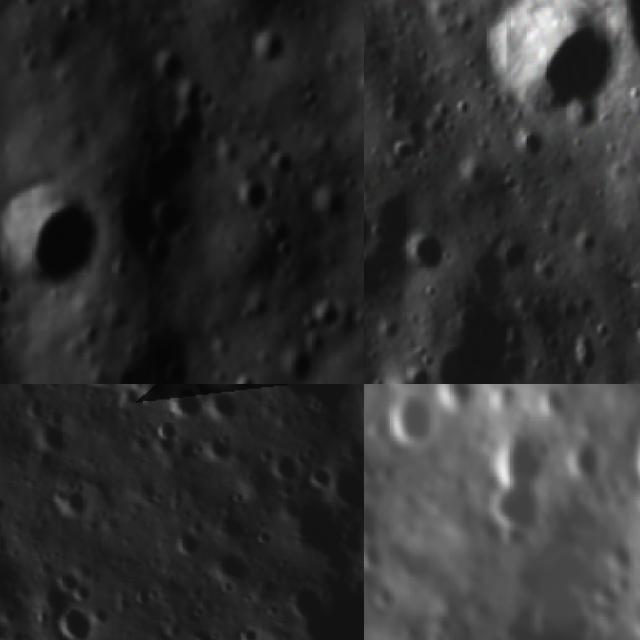crater: (480, 0, 627, 109), (0, 174, 103, 297), (430, 285, 539, 384), (527, 575, 611, 640), (285, 578, 364, 640), (483, 478, 551, 549), (477, 424, 545, 484), (388, 395, 440, 446), (157, 107, 221, 146), (406, 229, 448, 283), (43, 601, 100, 640), (246, 34, 294, 80), (42, 556, 92, 600), (26, 412, 76, 456), (274, 342, 320, 384), (52, 480, 94, 522), (262, 443, 300, 488), (148, 192, 188, 234), (238, 170, 273, 218), (140, 236, 178, 280), (166, 384, 204, 426), (564, 339, 601, 381), (310, 290, 345, 333), (153, 49, 188, 90), (368, 573, 402, 615), (512, 128, 550, 162), (160, 350, 197, 384), (364, 498, 394, 539), (149, 412, 187, 444), (364, 538, 395, 575), (0, 286, 21, 312), (234, 370, 262, 384)
